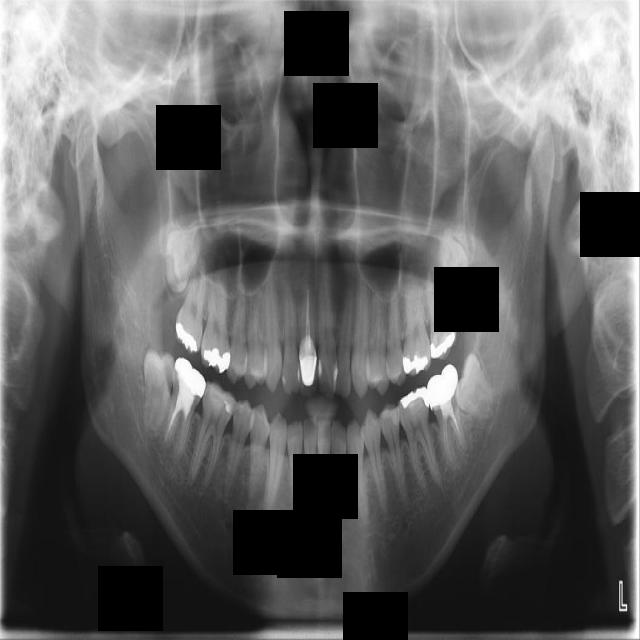3M ESPE Implant: (165, 226, 200, 292)
52: (415, 361, 469, 414), (163, 353, 214, 407), (192, 377, 244, 426), (390, 383, 439, 433), (162, 310, 211, 357), (190, 333, 239, 378), (393, 335, 440, 380), (428, 313, 458, 360), (316, 355, 338, 399), (330, 363, 355, 399), (297, 355, 319, 395), (281, 360, 300, 395)
73: (430, 380, 471, 466), (161, 383, 202, 459), (295, 259, 316, 358), (601, 586, 606, 602)
BioHorizons Implant: (422, 270, 459, 361)
BioLife Implant: (442, 238, 469, 303)
Biomet 3i Implant: (439, 352, 509, 434)
Blue Sky Bio Implant: (421, 363, 471, 467)
Caries: (173, 258, 209, 356)
Implant: (161, 355, 210, 459)
Keystone Dental Implant: (143, 345, 176, 437)
